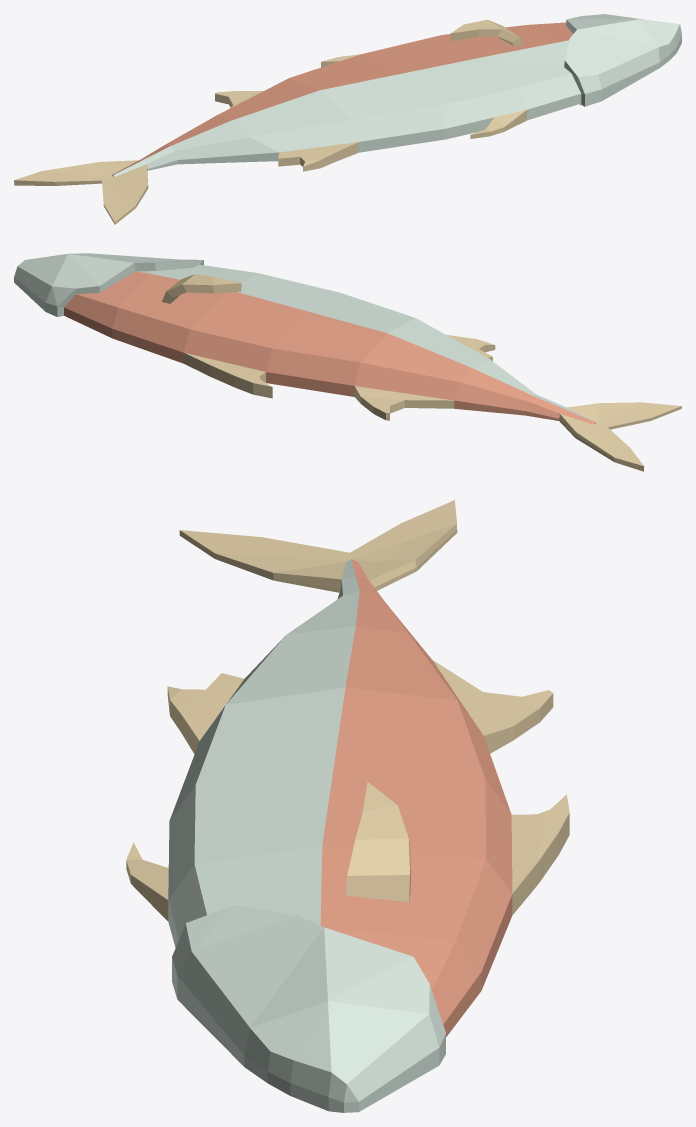
File: fish.glb
The picture shows the model from 3 angles, top to bottom: view 1: azimuth 30°, elevation 25°; view 2: azimuth 150°, elevation 25°; view 3: azimuth 270°, elevation 25°; orthographic projection. The views are drawn at different scales.
Visible parts, largest first — view 1: Fish; view 2: Fish; view 3: Fish.
Part boxes in pixels (x1,y1,x2,y2): Fish: (14, 14, 681, 224); Fish: (14, 253, 681, 471); Fish: (126, 500, 569, 1112).
Size of the model in its own units: 1 by 0.1 by 0.3.
